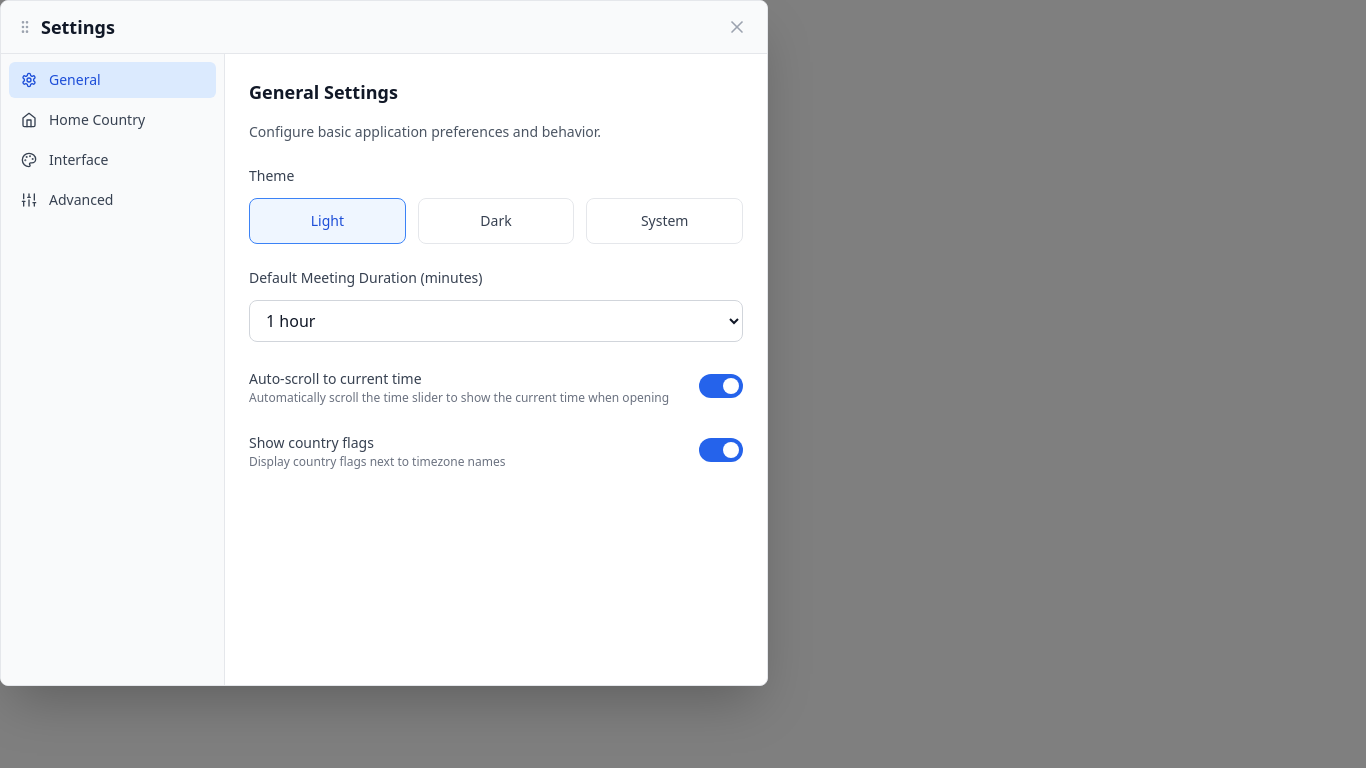
Scenario: SettingsModal Form Controls and Validation › General Tab › resets changes when reset button is clicked
This screenshot has width=1366, height=768.
# Make a change
Click the button "Dark".
click(496, 221)  # box [418, 198, 574, 244]
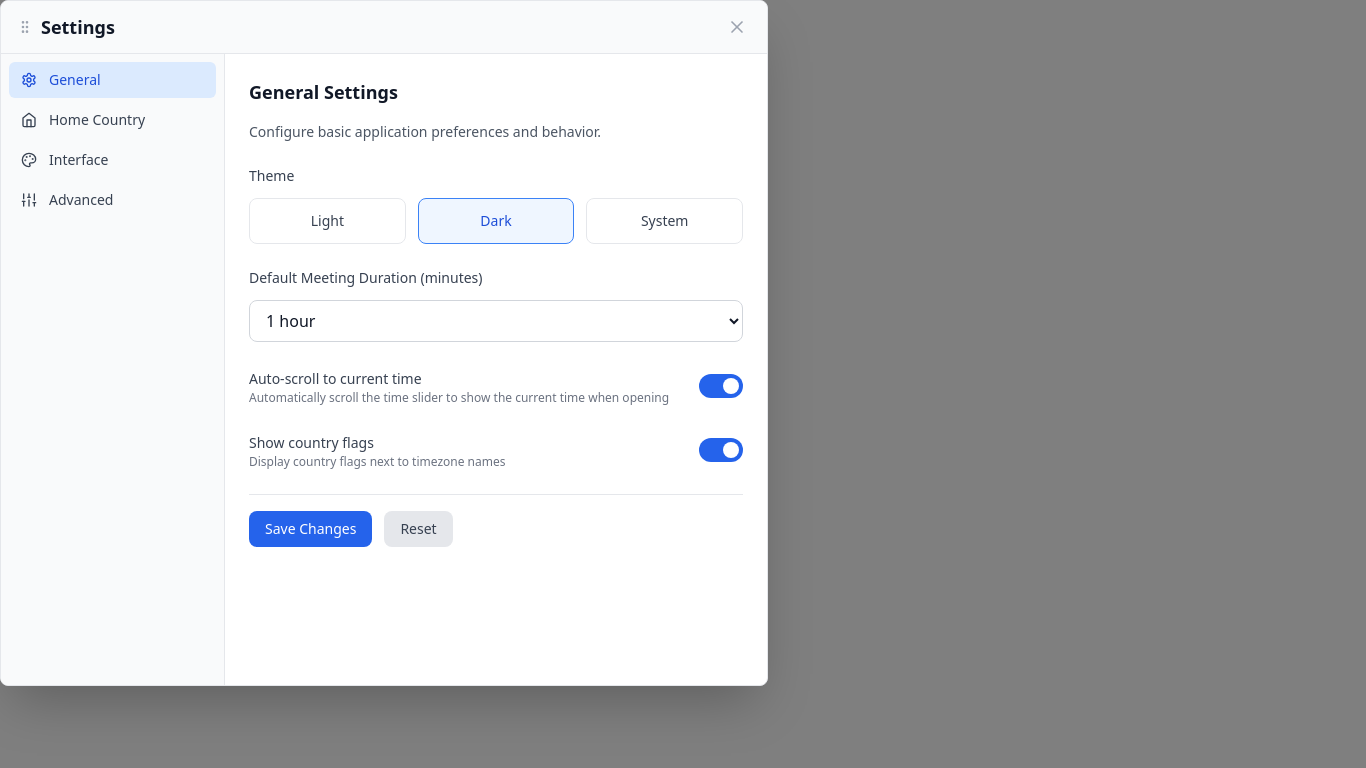
# Click reset
Click the button "Reset".
click(419, 529)  # box [384, 511, 453, 547]
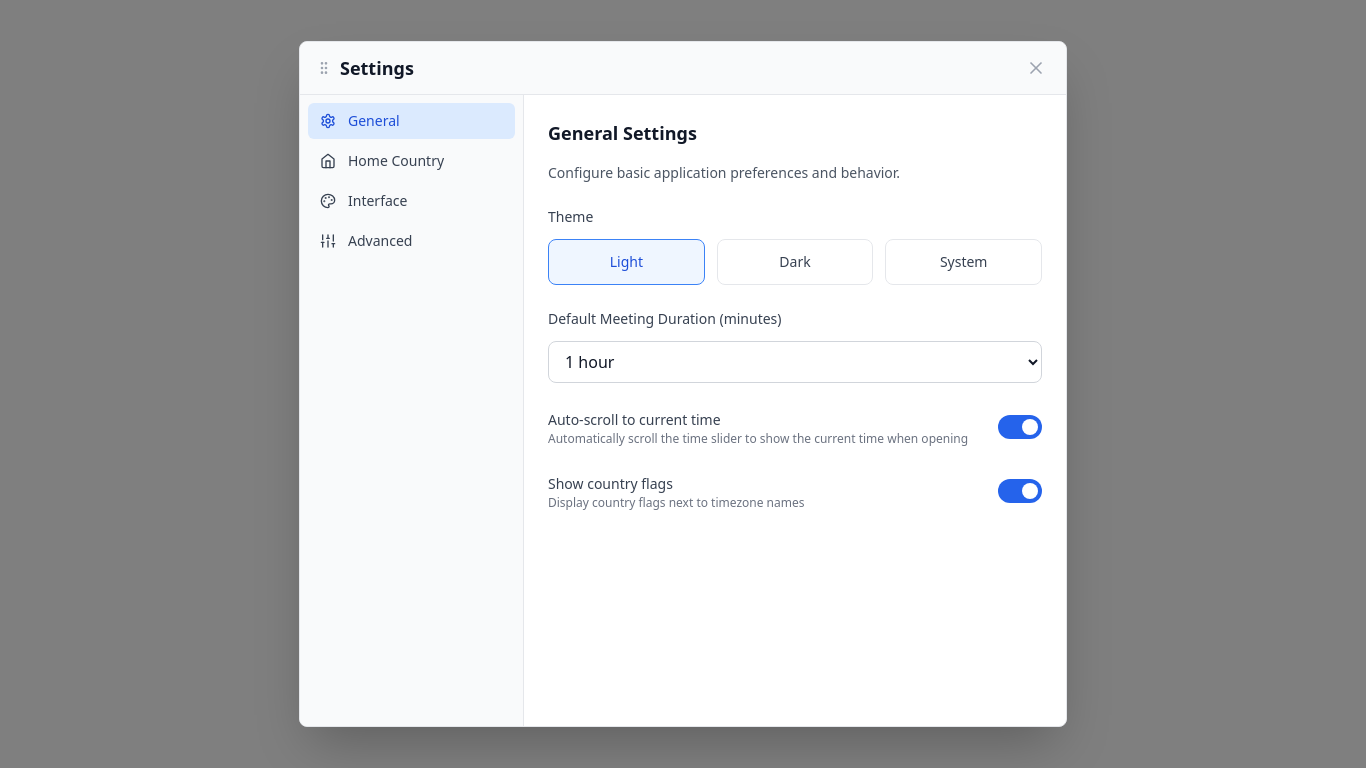
Now the button "Save Changes" is gone
Now the button "Reset" is gone
